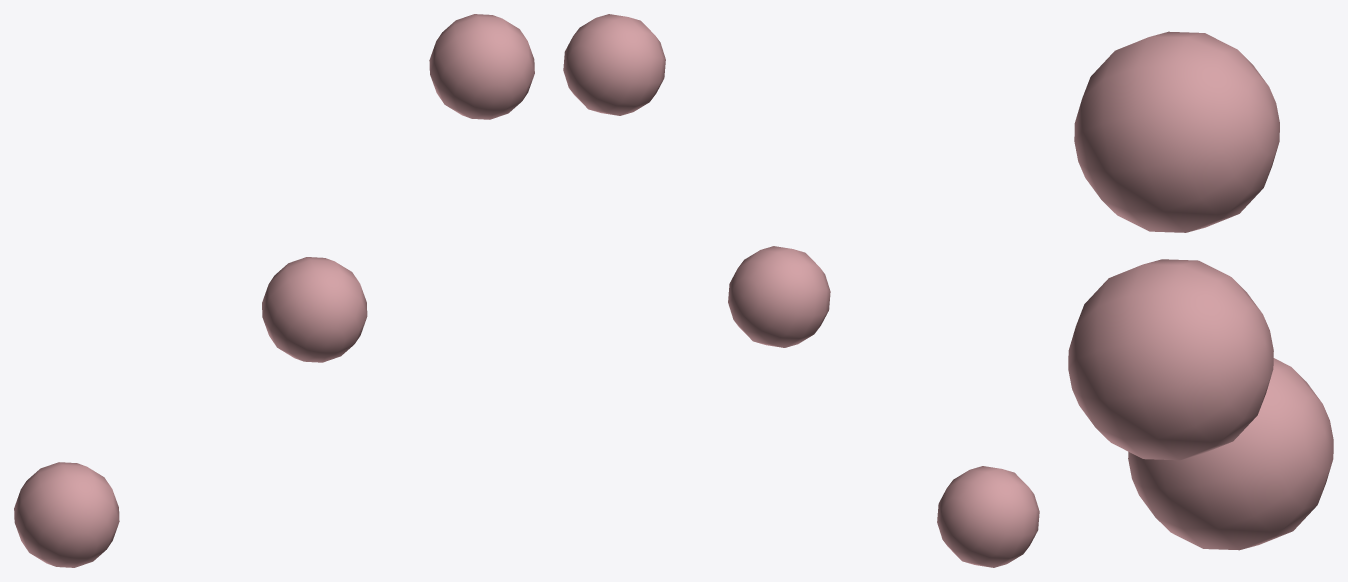
The picture shows the model from 3 angles, left to right: view 1: azimuth 30°, elevation 25°; view 2: azimuth 150°, elevation 25°; view 3: azimuth 270°, elevation 25°; orthographic projection. The views are drawn at different scales.
Visible parts, largest first — view 1: ZA_7b8ebc9c08244f29; view 2: ZA_7b8ebc9c08244f29; view 3: ZA_7b8ebc9c08244f29.
Boxes of the visible parts, left/top/right/bottom form: ZA_7b8ebc9c08244f29: left=14, top=14, right=534, bottom=567; ZA_7b8ebc9c08244f29: left=563, top=14, right=1039, bottom=567; ZA_7b8ebc9c08244f29: left=1068, top=31, right=1333, bottom=550.
Size of the model in its own units: 0.0138 by 0.0122 by 0.00334.
